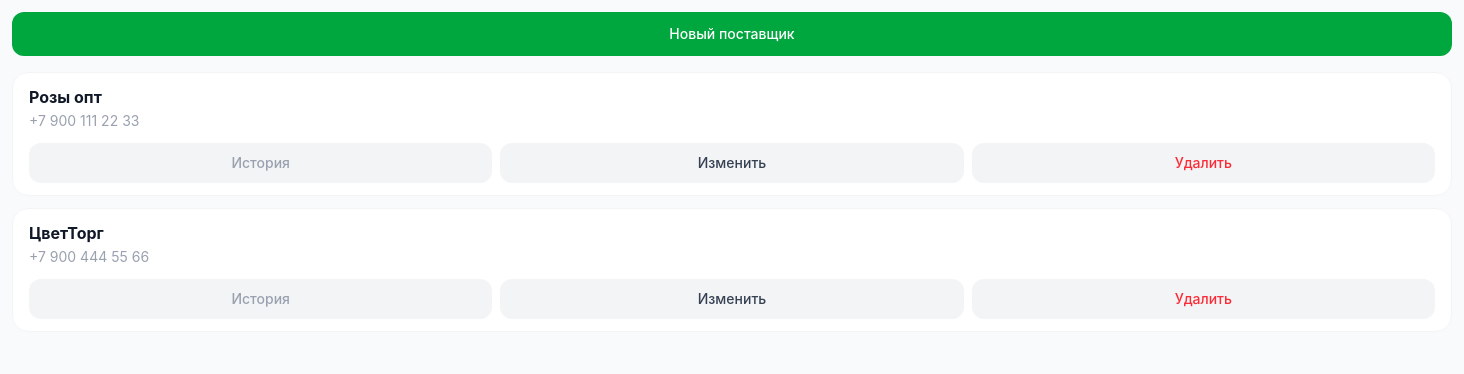
it: SuppliersPage › показывает форму редактирования при клике «Изменить»
This screenshot has width=1464, height=374.
Click the 1st button "Изменить" at (732, 163), box [500,143,964,183]
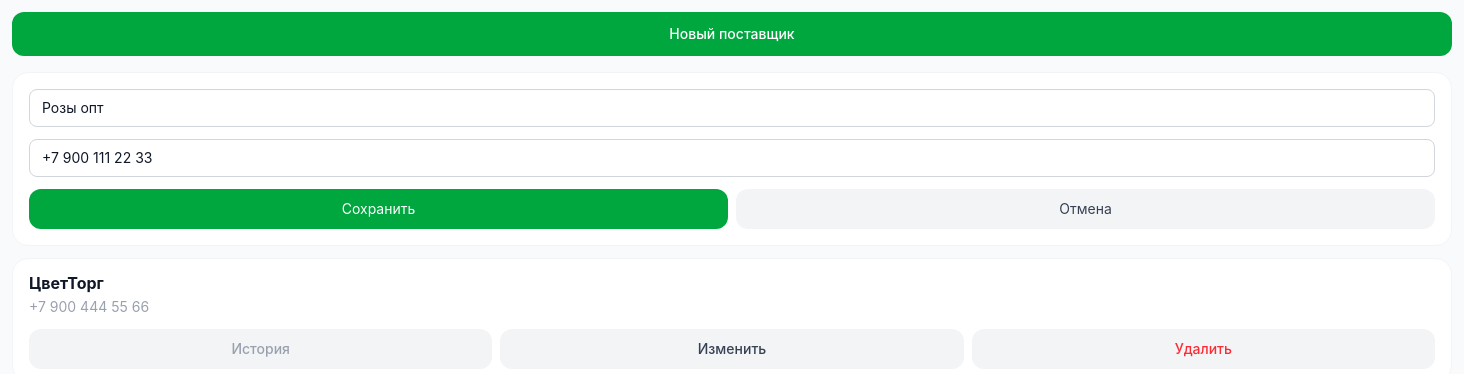
Expected: the 1st field showing "Розы опт" is shown, [29,89,1435,127]
